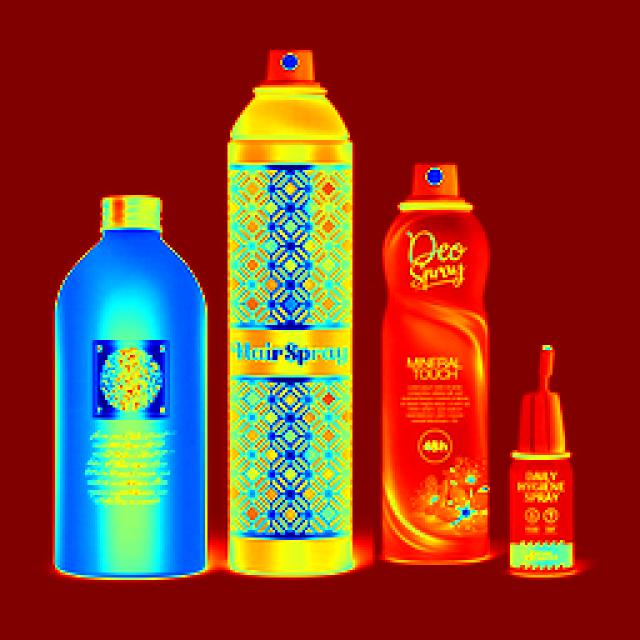Aerosol Cans: (224, 42, 360, 578), (52, 184, 215, 594), (378, 146, 499, 572), (509, 334, 578, 582)
